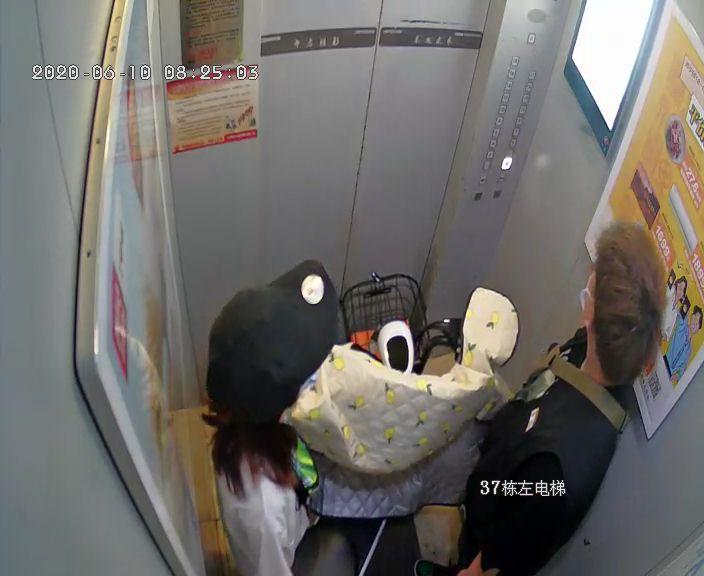Electric-bicycle: (337, 256, 463, 376)
